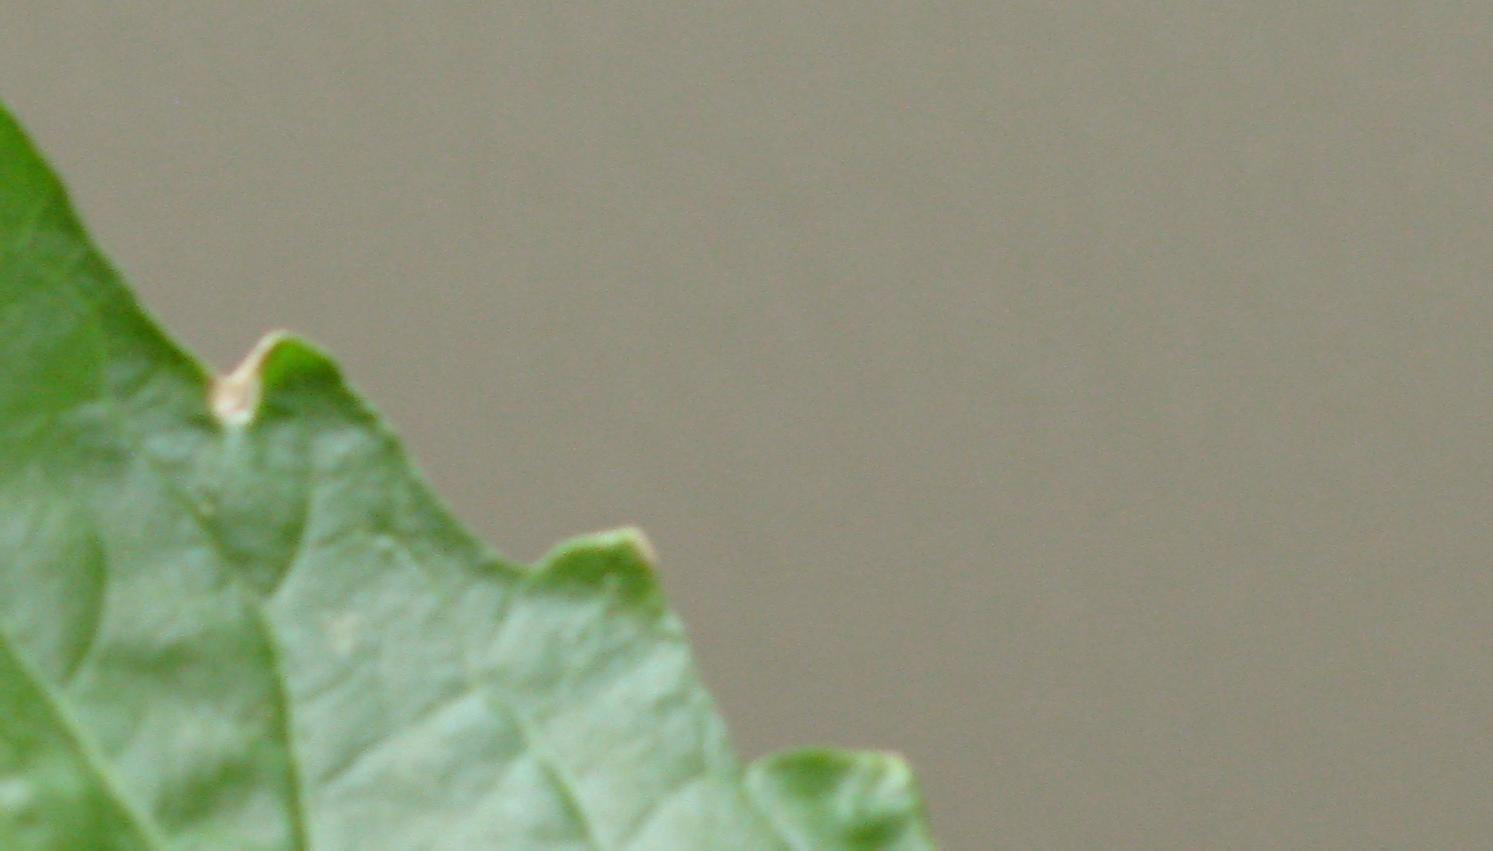Tomato leaf: (0, 0, 1331, 851)
